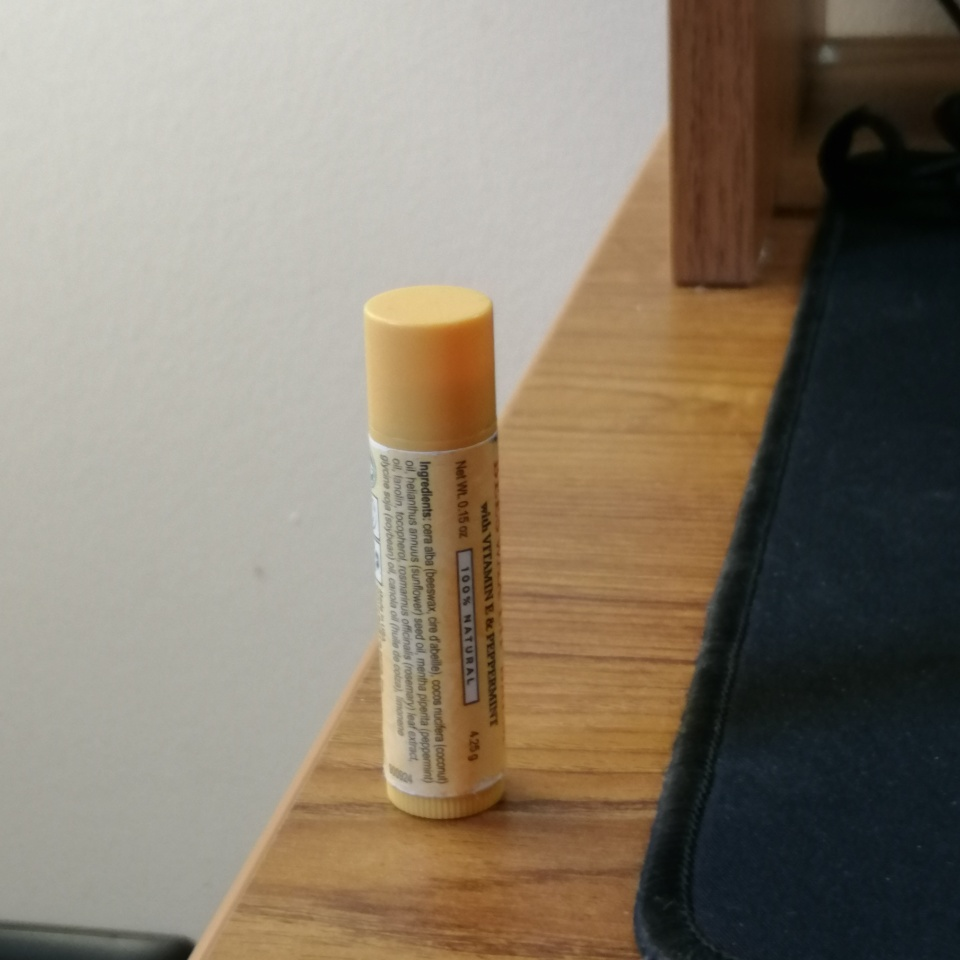chapstick: (362, 283, 510, 820)
